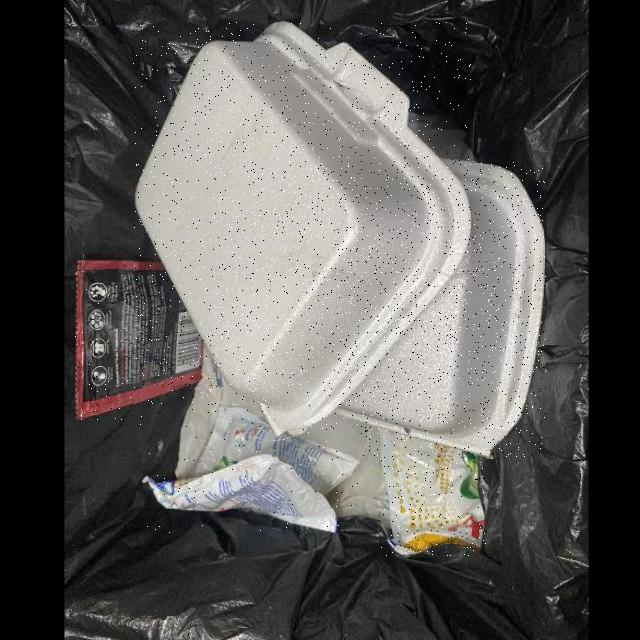styrofoam: (133, 22, 472, 438), (337, 159, 546, 459)
wrapper: (147, 407, 359, 533), (76, 261, 203, 421), (379, 427, 486, 556)
